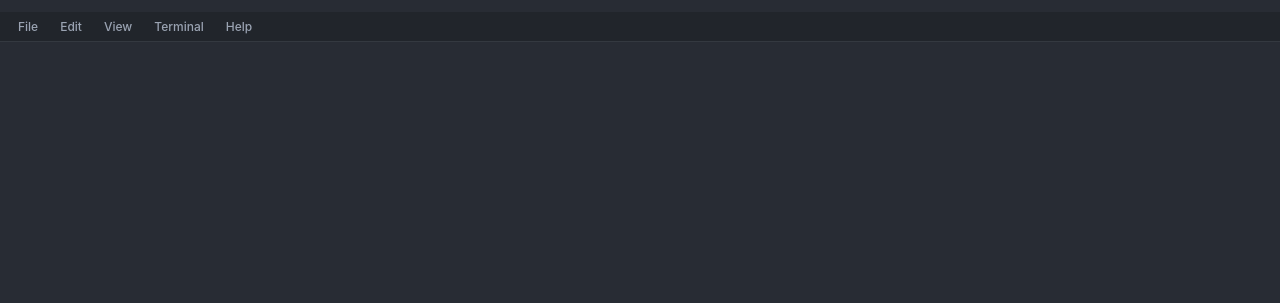
Test: MenuBar › clicking the same title again closes the dropdown
This screenshot has width=1280, height=303.
What coordinates should you click on to do the following:
click the menu item with class "menu-bar-title" showing "File"
I would click on:
 (28, 26)
Its box is [8,14,48,40].
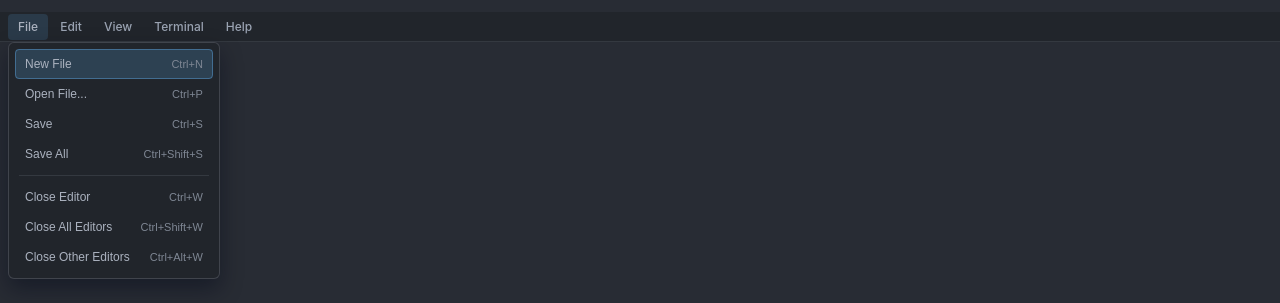
Expected: the menu with class "menu-bar-dropdown" is shown, [8,42,220,278]
What coordinates should you click on to do the following:
click the menu item with class "menu-bar-title" showing "File"
I would click on:
 (28, 26)
Its box is [8,14,48,40].
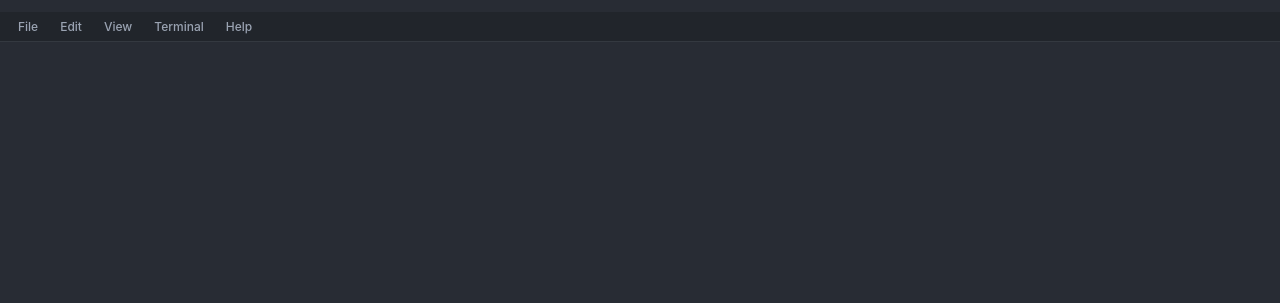
Expected: the menu with class "menu-bar-dropdown" is gone
